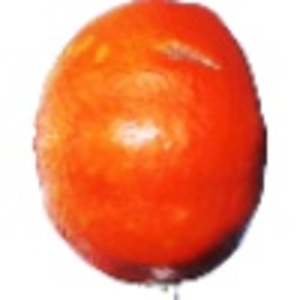tangerina: (32, 1, 269, 300)
